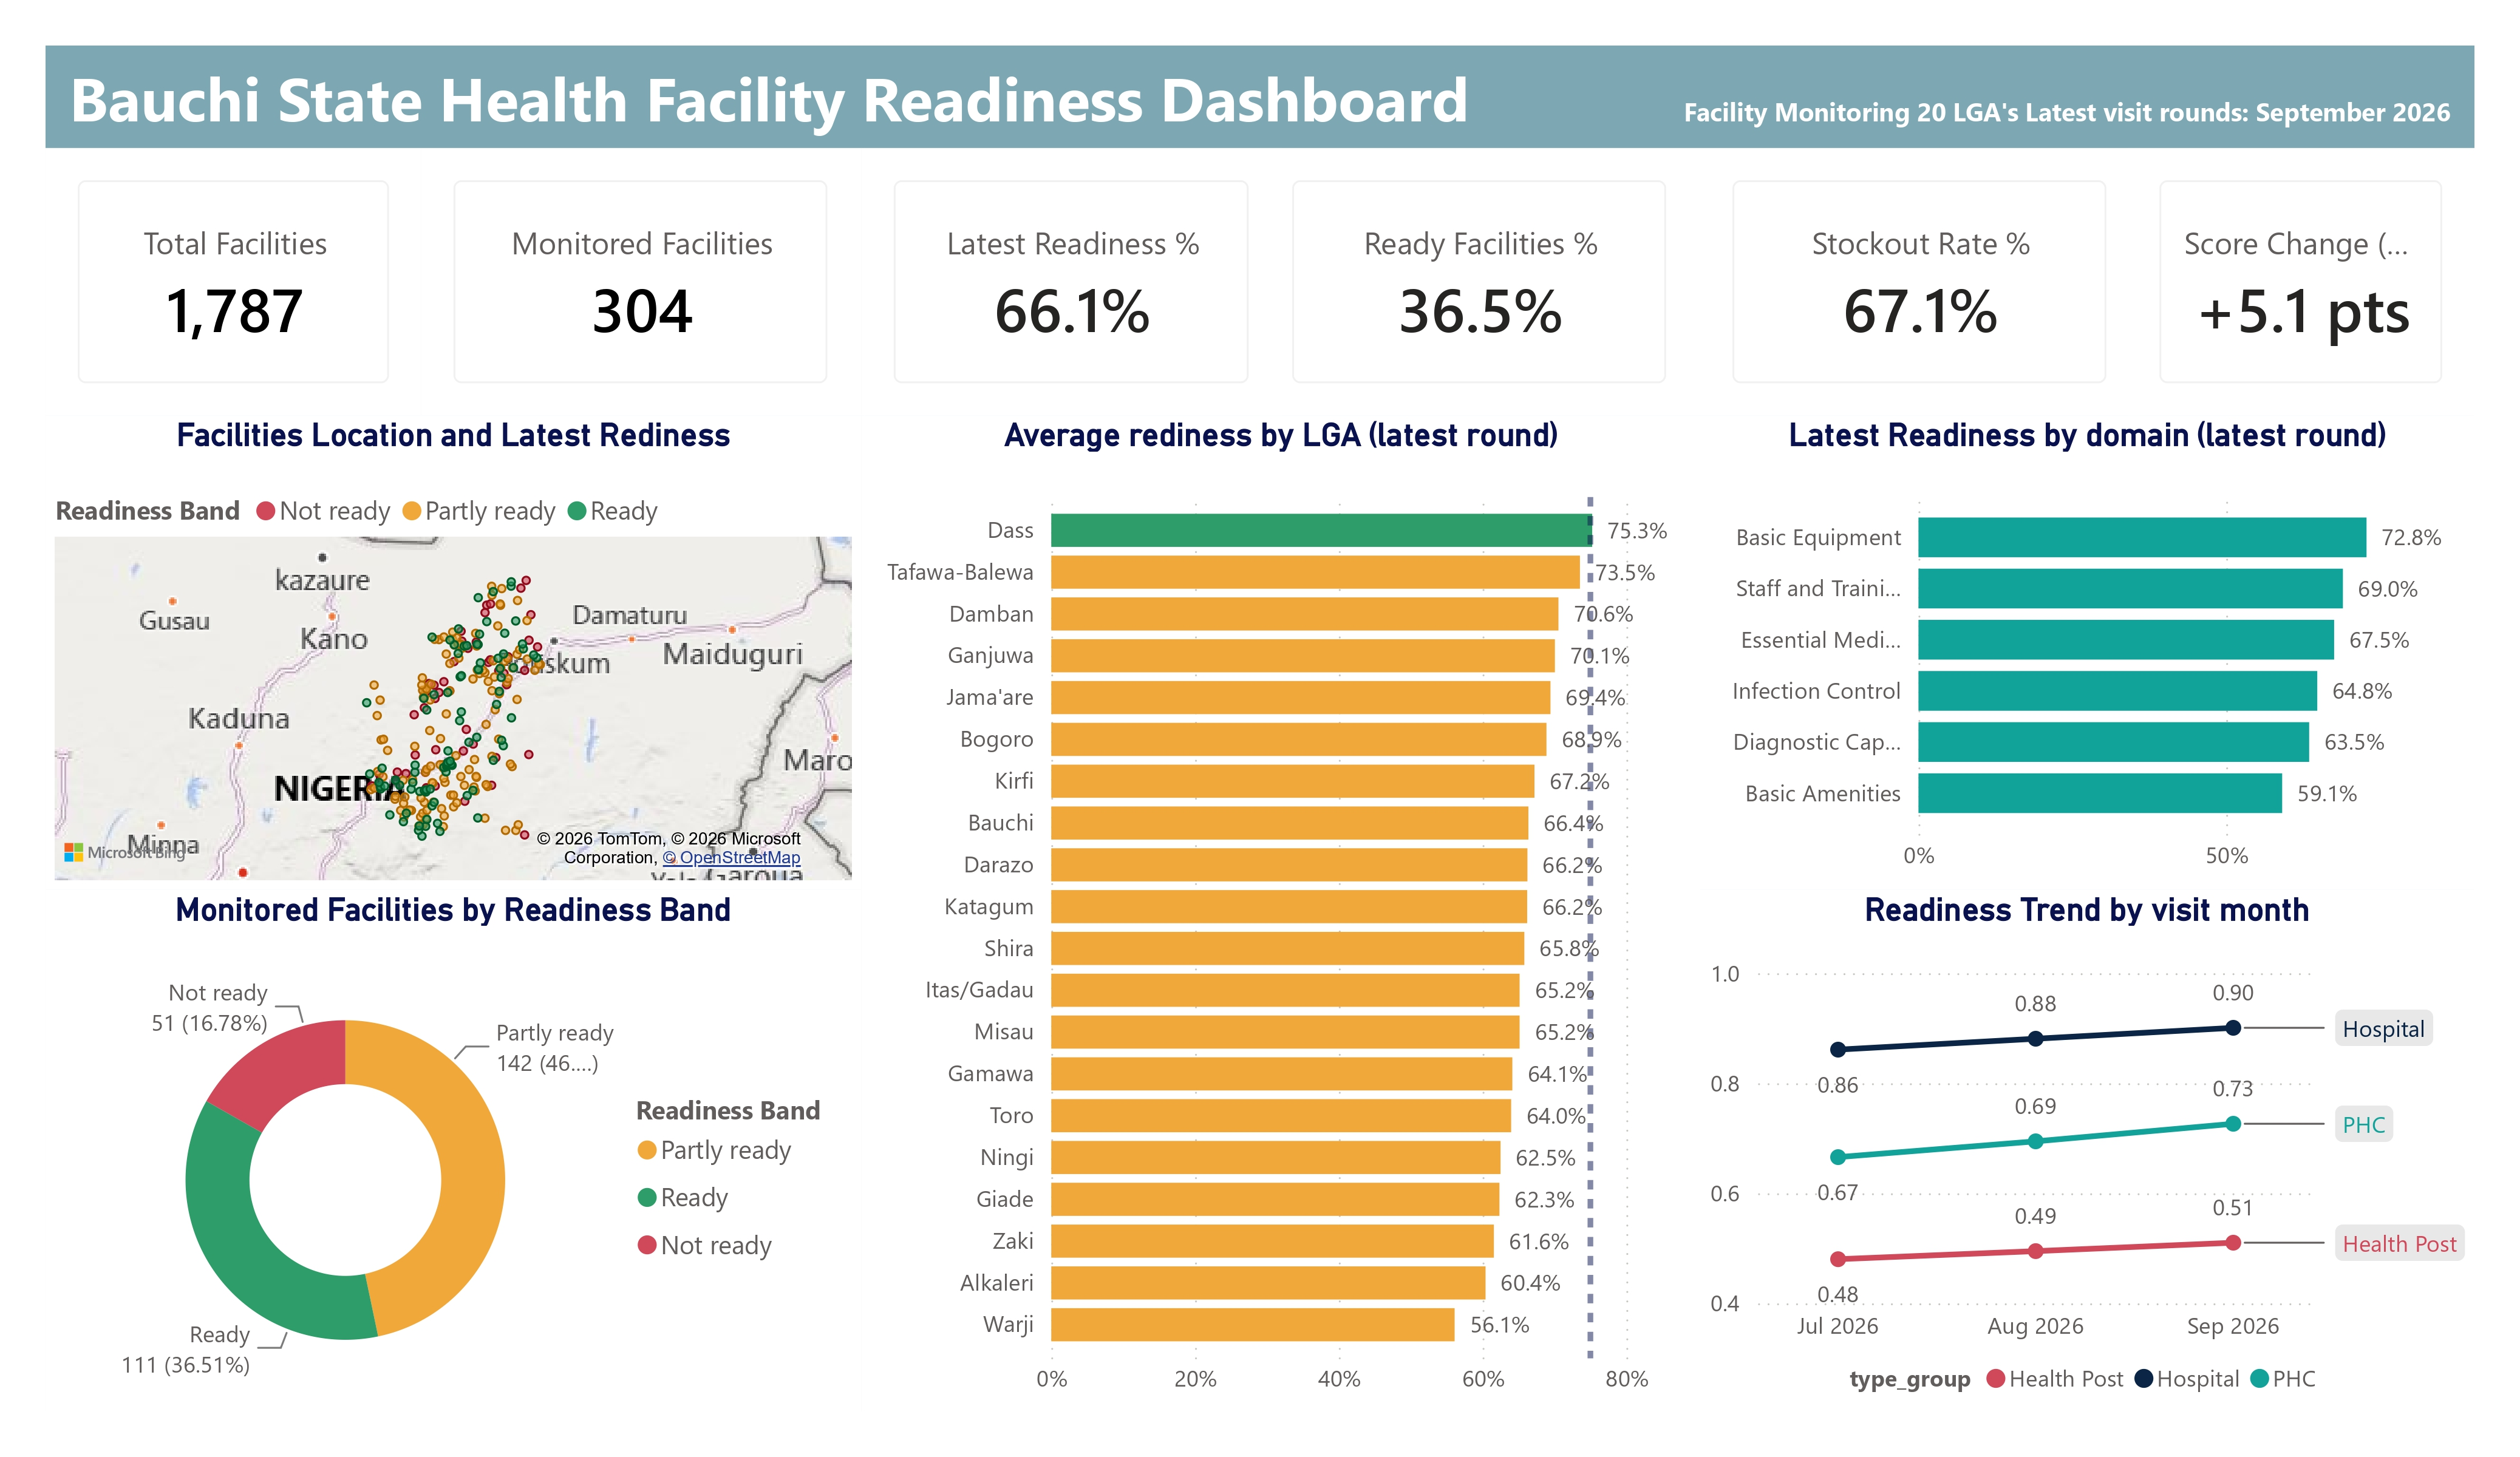

Layout of this report page (visuals, bound fields, positions):
{"tool":"powerbi","page":{"name":"Page 1","canvas":[1280,720],"ordinal":0},"visuals":[{"type":"cardVisual","fields":{"Data":["monitoring_visit.Total Facilities"]},"box":[0,53.8,198.2,141.1],"z":0},{"type":"cardVisual","fields":{"Data":["monitoring_visit.Monitored Facilities"]},"box":[198.2,53.8,231.8,141.1],"z":1000},{"type":"cardVisual","fields":{"Data":["monitoring_visit.Latest Readiness %"]},"box":[430,53.8,221.7,141.1],"z":2000},{"type":"cardVisual","fields":{"Data":["monitoring_visit.Ready Facilities %"]},"box":[640,53.8,231.8,141.1],"z":3000},{"type":"cardVisual","fields":{"Data":["monitoring_visit.Stockout Rate %"]},"box":[871.8,53.8,231.8,141.1],"z":4000},{"type":"cardVisual","fields":{"Data":["monitoring_visit.Score Change (pts)"]},"box":[1096.9,53.8,183.1,141.1],"z":5000},{"type":"clusteredBarChart","title":"Average rediness by LGA (latest round)","fields":{"Category":["dim_facility.lga_name"],"Y":["monitoring_visit.Latest Readiness %"]},"box":[430,194.9,441.8,525.8],"z":6000},{"type":"clusteredBarChart","title":"Latest Readiness by domain (latest round)","fields":{"Category":["dim_indicator.domain_name"],"Y":["monitoring_visit.Latest Readiness %"]},"box":[871.8,194.9,408.2,250.3],"z":7000},{"type":"lineChart","title":"Readiness Trend by visit month","fields":{"Category":["dim_date.Month"],"Y":["monitoring_visit.Readiness Score %"],"Series":["dim_facility.type_group"]},"box":[871.8,445.1,408.2,275.5],"z":8000},{"type":"donutChart","fields":{"Category":["monitoring_visit.Readiness Band"],"Y":["monitoring_visit.Monitored Facilities"]},"box":[0,445.1,430,275.5],"z":9000},{"type":"map","title":"Facilities Location and Latest Rediness","fields":{"Y":["dim_facility.latitude"],"X":["dim_facility.longitude"],"Series":["monitoring_visit.Readiness Band"]},"box":[0,194.9,430,250.3],"z":10000},{"type":"textbox","box":[0,0,1280,53.8],"z":10001}]}

Visuals, with their boxes on the page's 1280x720 design canvas (x1, y1, x2, y2). These are canvas units, not pixel positions in the 2520x1457 screenshot, which may show the page scaled, cropped or inside an application window:
cardVisual - monitoring_visit.Total Facilities: <box>0,54,198,195</box>
cardVisual - monitoring_visit.Monitored Facilities: <box>198,54,430,195</box>
cardVisual - monitoring_visit.Latest Readiness %: <box>430,54,652,195</box>
cardVisual - monitoring_visit.Ready Facilities %: <box>640,54,872,195</box>
cardVisual - monitoring_visit.Stockout Rate %: <box>872,54,1104,195</box>
cardVisual - monitoring_visit.Score Change (pts): <box>1097,54,1280,195</box>
"Average rediness by LGA (latest round)" clusteredBarChart: <box>430,195,872,721</box>
"Latest Readiness by domain (latest round)" clusteredBarChart: <box>872,195,1280,445</box>
"Readiness Trend by visit month" lineChart: <box>872,445,1280,721</box>
donutChart - monitoring_visit.Readiness Band x monitoring_visit.Monitored Facilities: <box>0,445,430,721</box>
"Facilities Location and Latest Rediness" map: <box>0,195,430,445</box>
textbox: <box>0,0,1280,54</box>
